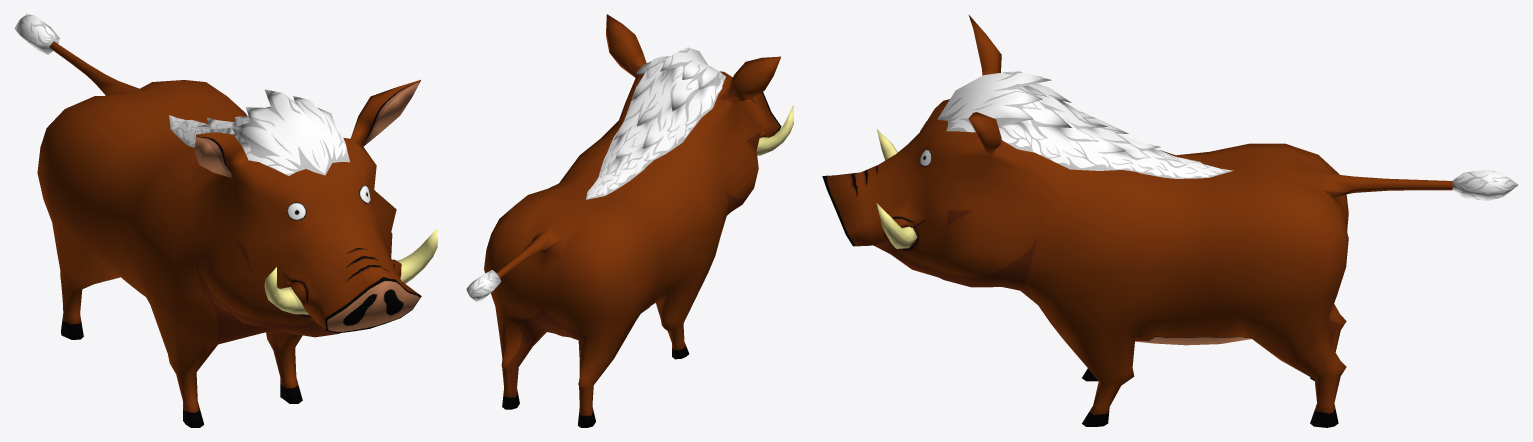
Rendered from Boar.FBX.
3 renders of one model, left to right at view 1: azimuth 30°, elevation 25°; view 2: azimuth 150°, elevation 25°; view 3: azimuth 270°, elevation 25°, orthographic. The views are drawn at different scales.
Visible parts, largest first — view 1: body, hair; view 2: body, hair; view 3: body, hair.
Boxes of the visible parts, x1=… form: body: x1=37, y1=41, x2=437, y2=427; hair: x1=14, y1=14, x2=349, y2=175; body: x1=484, y1=14, x2=793, y2=427; hair: x1=466, y1=47, x2=725, y2=301; body: x1=822, y1=14, x2=1452, y2=427; hair: x1=937, y1=70, x2=1518, y2=200.
Size of the model in its own units: 17.45 by 26.07 by 49.14.
